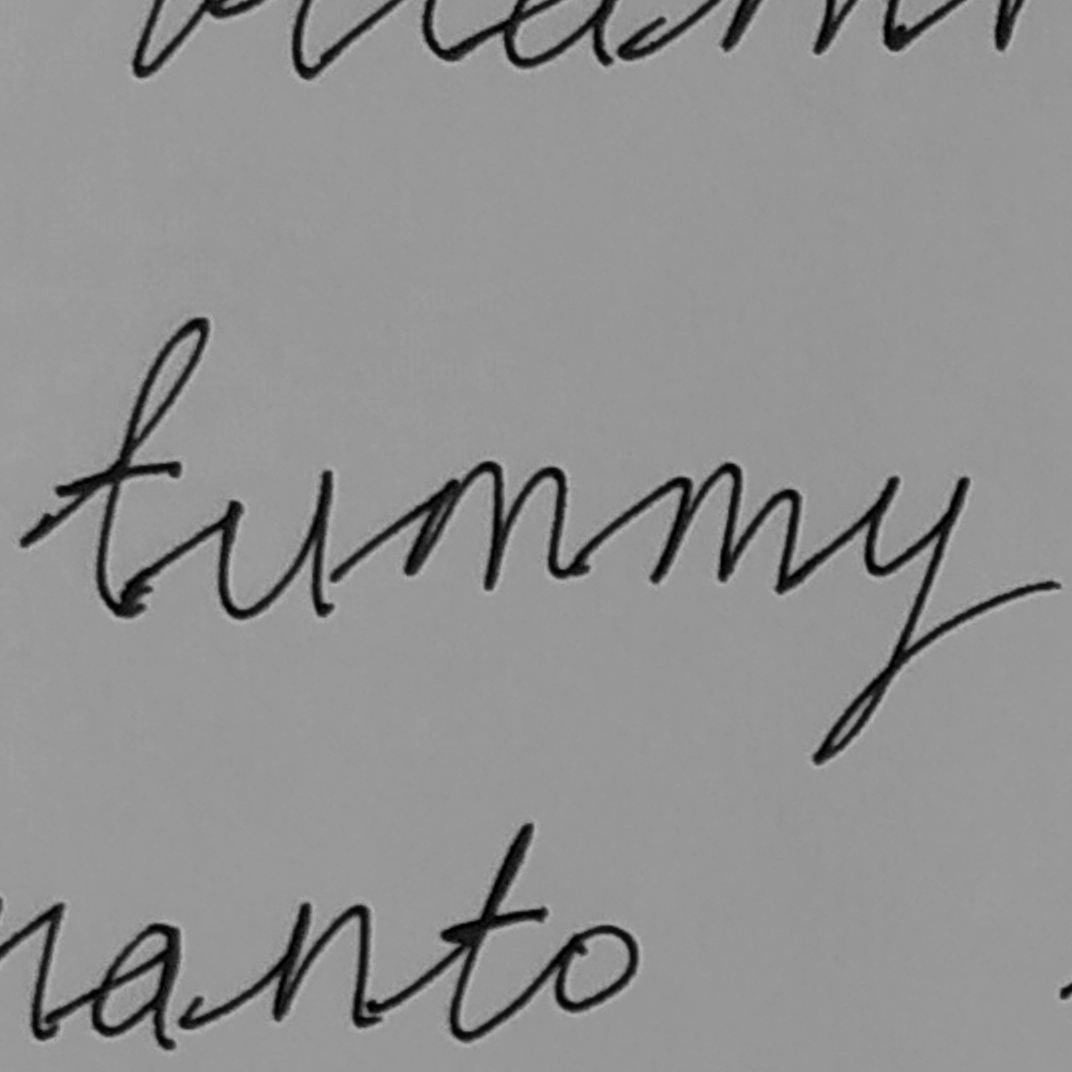m: (399, 452, 586, 599), (641, 455, 807, 601)
t: (51, 312, 213, 621)
u: (213, 466, 344, 623)
y: (806, 467, 976, 770)
